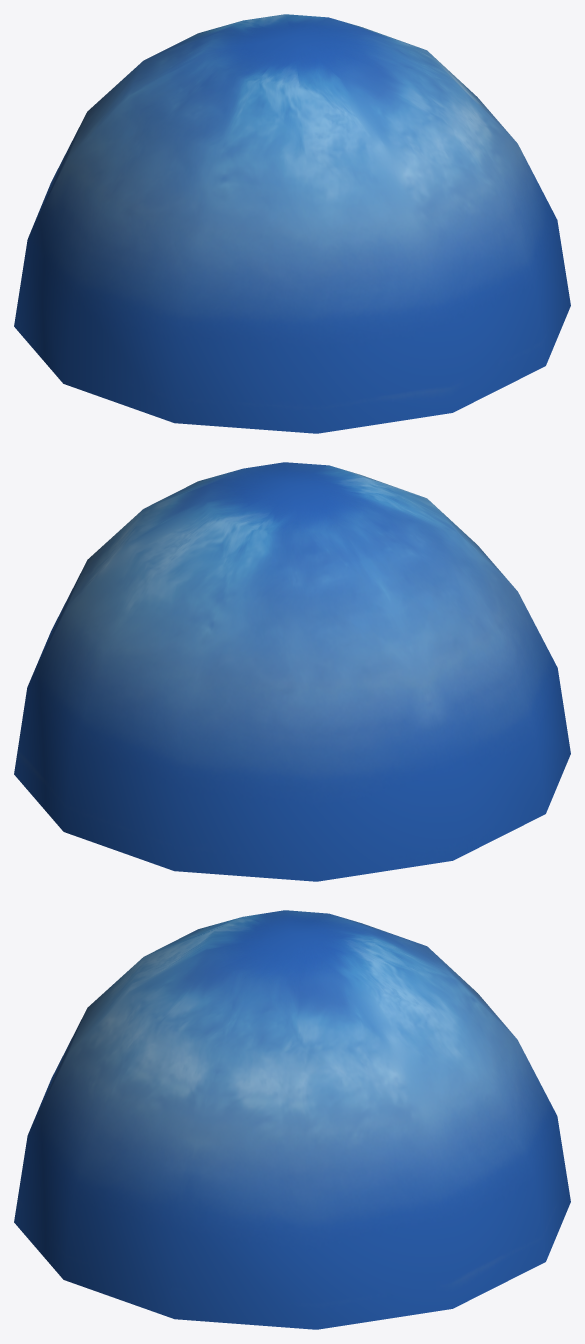
File: env_jakku_graveyard_pre.glb
3 renders of one model, top to bottom at view 1: azimuth 30°, elevation 25°; view 2: azimuth 150°, elevation 25°; view 3: azimuth 270°, elevation 25°, orthographic.
Parts seen in each view (by area): view 1: skybox_01_mesh; view 2: skybox_01_mesh; view 3: skybox_01_mesh.
Part boxes in pixels (left/top/right/bottom): skybox_01_mesh: left=14, top=14, right=570, bottom=433; skybox_01_mesh: left=14, top=462, right=570, bottom=881; skybox_01_mesh: left=14, top=910, right=570, bottom=1329.
Size of the model in its own units: 349 by 205 by 349.
Materials: 25 (25 with a texture image).
